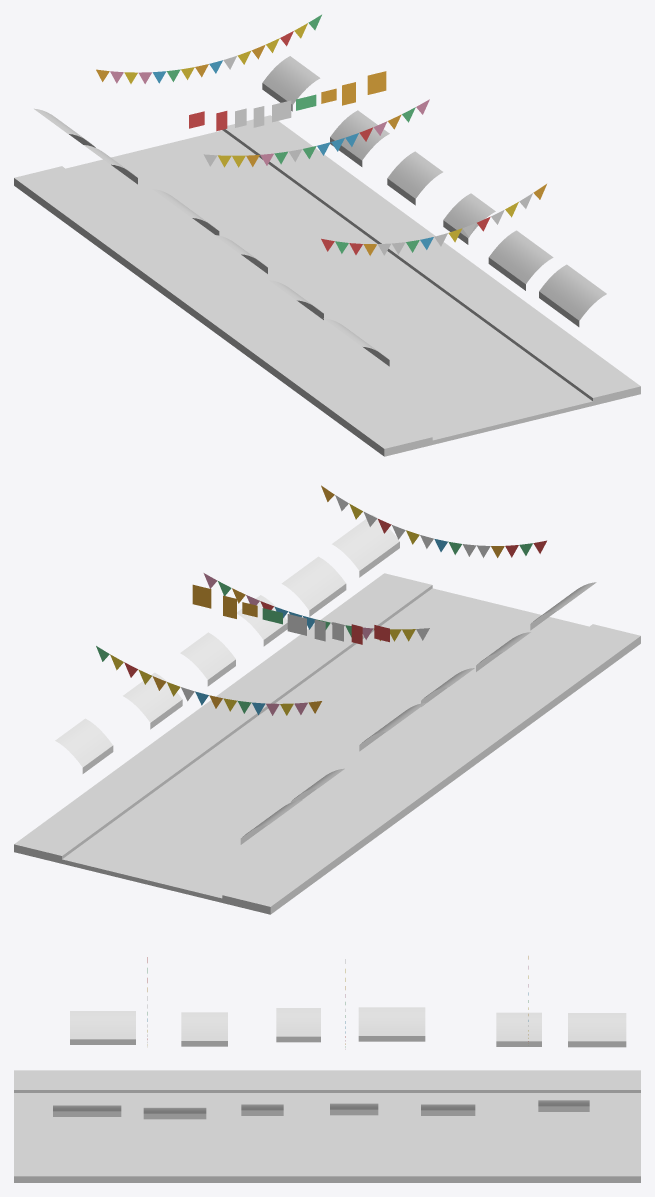
Rendered from Harita_12_Mahalle_Bayram_Sokagi_Ozel.fbx.
3 renders of one model, top to bottom at view 1: azimuth 30°, elevation 25°; view 2: azimuth 150°, elevation 25°; view 3: azimuth 270°, elevation 25°, orthographic. The views are drawn at different scales.
Visible parts, largest first — view 1: Harita_12_Yol.001, Harita_12_Kaldirim_L.001, Harita_12_Kaldirim_R.001, Camasirlar.010, Tente.155, Tente.156, Tente.160, Tente.158, Bayraklar.038, Bayraklar.039, Bayraklar.040, Tente.159 (+1 smaller); view 2: Harita_12_Yol.001, Harita_12_Kaldirim_L.001, Harita_12_Kaldirim_R.001, Camasirlar.010, Tente.155, Tente.156, Tente.160, Bayraklar.040, Tente.159, Bayraklar.038, Tente.158, Bayraklar.039 (+1 smaller); view 3: Harita_12_Yol.001, Harita_12_Kaldirim_R.001, Harita_12_Kaldirim_L.001, Tente.152, Tente.149, Tente.154, Tente.150, Tente.153, Tente.151, Tente.155, Tente.156, Tente.159 (+3 smaller).
Part boxes in pixels (x1=…): Harita_12_Yol.001: x1=66, y1=130, x2=592, y2=444; Harita_12_Kaldirim_L.001: x1=14, y1=166, x2=432, y2=456; Harita_12_Kaldirim_R.001: x1=222, y1=115, x2=640, y2=405; Camasirlar.010: x1=189, y1=71, x2=386, y2=131; Tente.155: x1=539, y1=264, x2=606, y2=326; Tente.156: x1=488, y1=230, x2=553, y2=290; Tente.160: x1=262, y1=56, x2=320, y2=111; Tente.158: x1=387, y1=151, x2=442, y2=205; Bayraklar.038: x1=321, y1=184, x2=546, y2=255; Bayraklar.039: x1=203, y1=99, x2=429, y2=167; Bayraklar.040: x1=96, y1=14, x2=321, y2=83; Tente.159: x1=330, y1=110, x2=389, y2=166; Harita_12_Yol.001: x1=62, y1=588, x2=588, y2=902; Harita_12_Kaldirim_L.001: x1=222, y1=624, x2=640, y2=914; Harita_12_Kaldirim_R.001: x1=14, y1=573, x2=432, y2=863; Camasirlar.010: x1=192, y1=584, x2=389, y2=644; Tente.155: x1=332, y1=515, x2=399, y2=577; Tente.156: x1=281, y1=556, x2=346, y2=616; Tente.160: x1=55, y1=718, x2=113, y2=773; Bayraklar.040: x1=96, y1=646, x2=321, y2=715; Tente.159: x1=123, y1=672, x2=182, y2=729; Bayraklar.038: x1=321, y1=485, x2=546, y2=557; Tente.158: x1=180, y1=632, x2=235, y2=686; Bayraklar.039: x1=203, y1=573, x2=429, y2=641; Harita_12_Yol.001: x1=14, y1=1093, x2=640, y2=1156; Harita_12_Kaldirim_R.001: x1=14, y1=1156, x2=640, y2=1182; Harita_12_Kaldirim_L.001: x1=14, y1=1070, x2=640, y2=1092; Tente.152: x1=358, y1=1007, x2=425, y2=1041; Tente.149: x1=70, y1=1011, x2=135, y2=1044; Tente.154: x1=568, y1=1013, x2=626, y2=1047; Tente.150: x1=181, y1=1012, x2=227, y2=1046; Tente.153: x1=496, y1=1012, x2=541, y2=1046; Tente.151: x1=276, y1=1008, x2=320, y2=1042; Tente.155: x1=53, y1=1105, x2=121, y2=1116; Tente.156: x1=143, y1=1107, x2=206, y2=1119; Tente.159: x1=421, y1=1104, x2=475, y2=1115.
Size of the model in its own units: 12 by 7.67 by 30.
